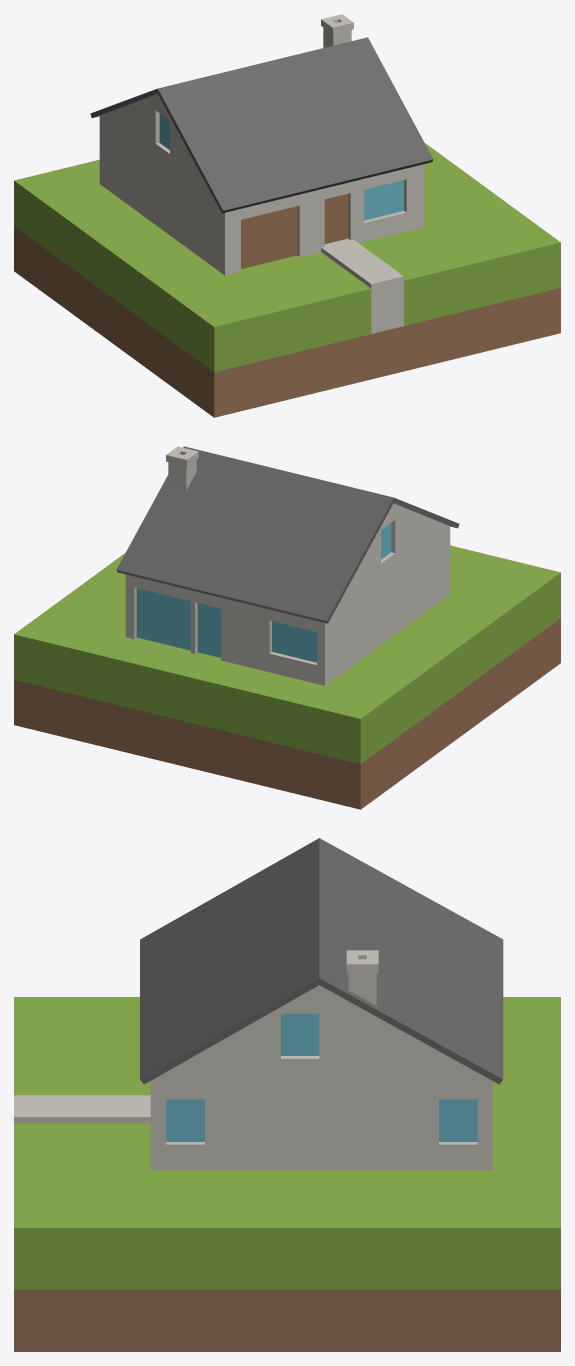
The model's file is house-small.2.glb.
The picture shows the model from 3 angles, top to bottom: view 1: azimuth 30°, elevation 25°; view 2: azimuth 150°, elevation 25°; view 3: azimuth 270°, elevation 25°; orthographic projection. The views are drawn at different scales.
Visible parts, largest first — view 1: house-small.2_Cube.008; view 2: house-small.2_Cube.008; view 3: house-small.2_Cube.008.
Part boxes in pixels (x1=…): house-small.2_Cube.008: x1=14, y1=14, x2=560, y2=417; house-small.2_Cube.008: x1=14, y1=446, x2=560, y2=809; house-small.2_Cube.008: x1=14, y1=838, x2=560, y2=1351.
Bounding box in the file's own units: 8 × 5.34 × 8.
1 material, 1 textured.
